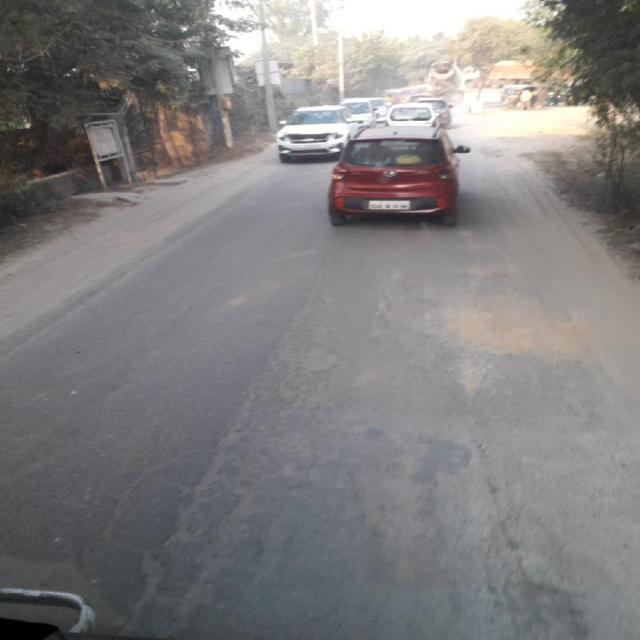crack: (145, 272, 594, 618)
pothole: (148, 279, 324, 590)
